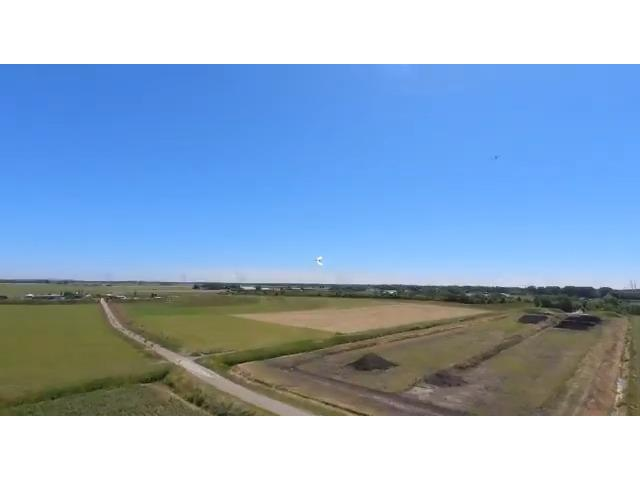Anti-Drone: (307, 250, 325, 269)
